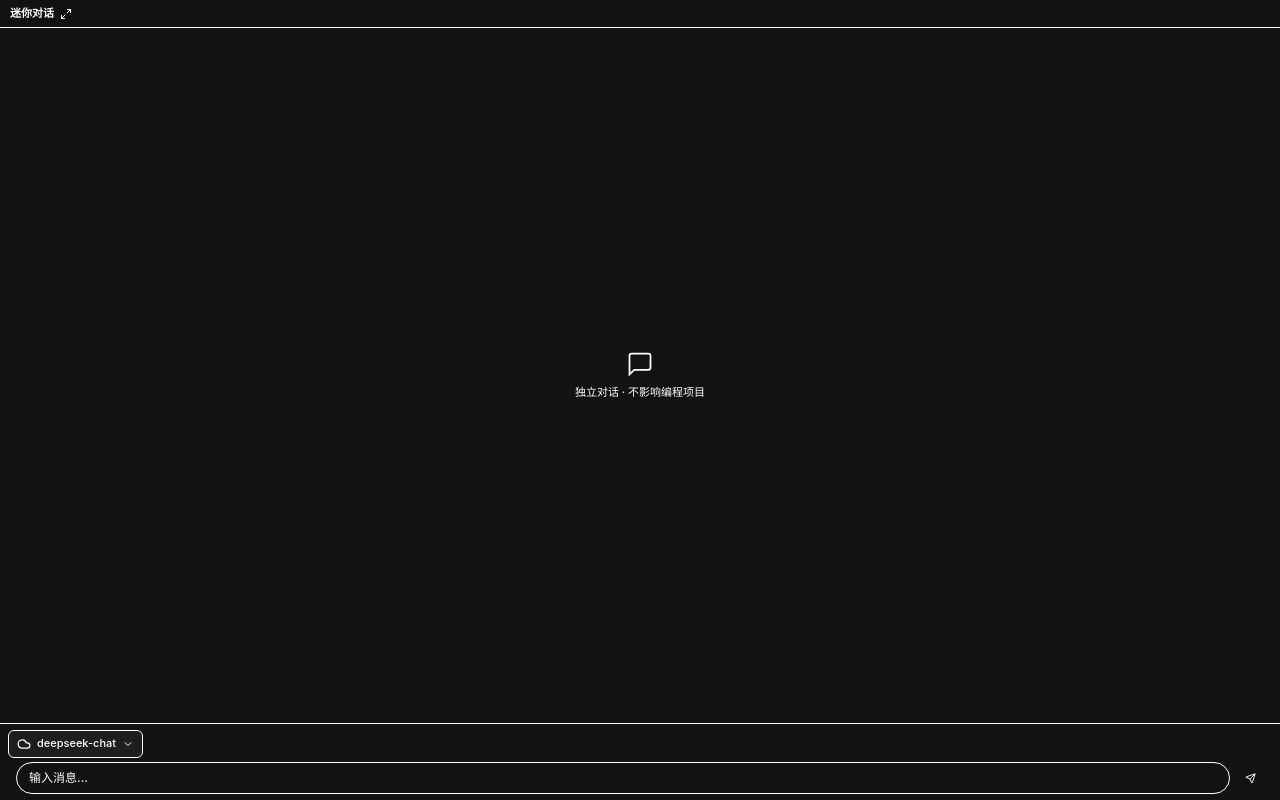
Scenario: ChatPanel (迷你独立对话) › 点击模型选择器按钮后展开下拉列表
Expected: the text "gpt-4o" is not shown
// 点击模型选择器按钮
Click the button "deepseek-chat": (76, 744) [8,730,143,758]
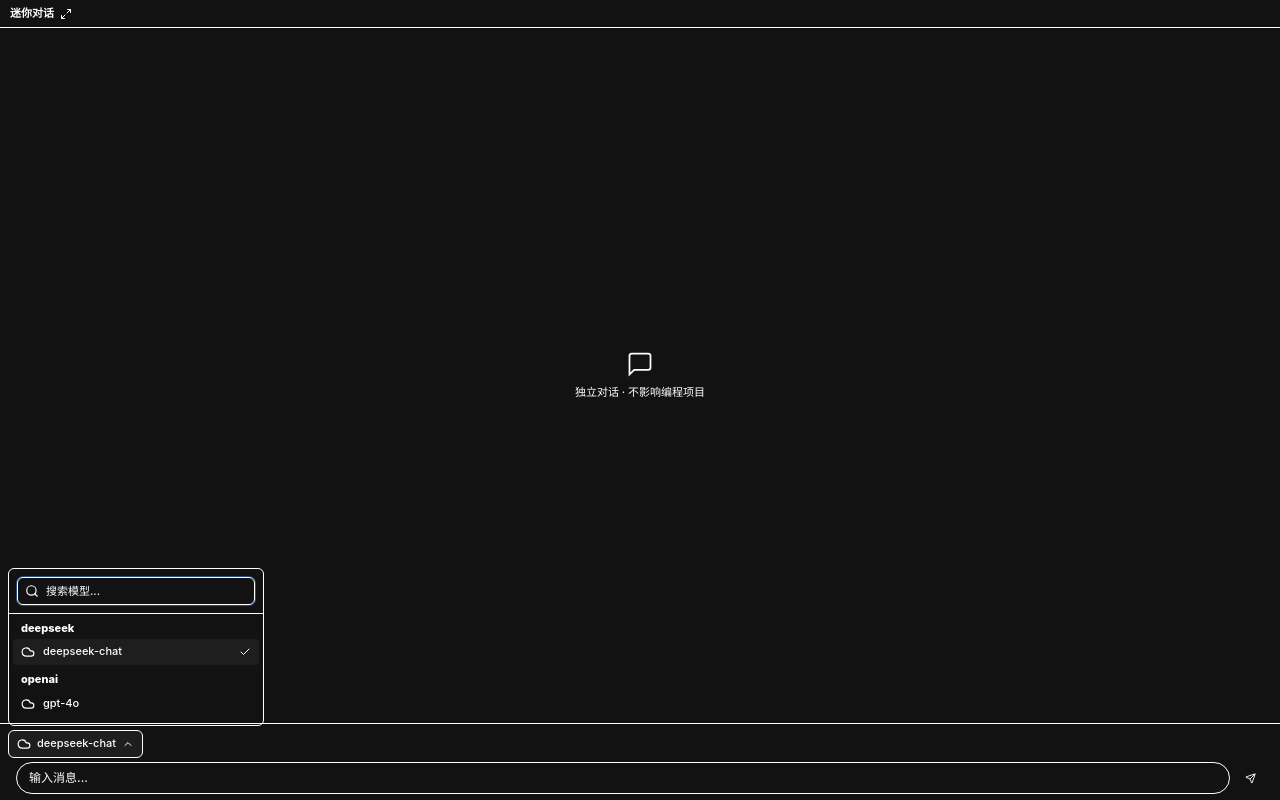
Expected: the text "gpt-4o" is shown, [43,696,79,710]
